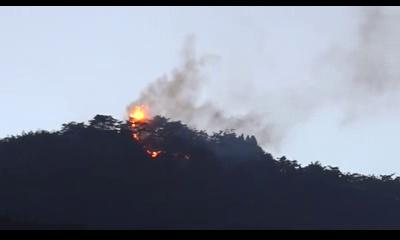fire: (129, 108, 146, 121)
